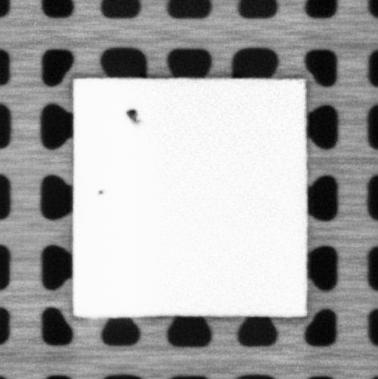DIE_INK: (123, 106, 141, 124), (96, 187, 104, 197)
